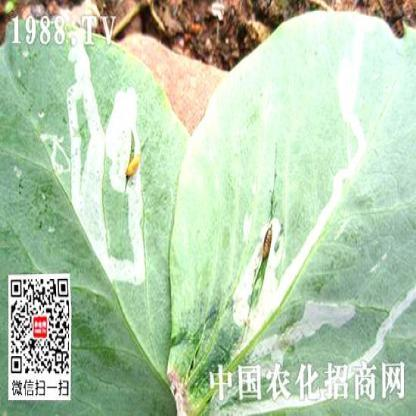whorl-maggot: (121, 148, 147, 188), (259, 217, 275, 269)
